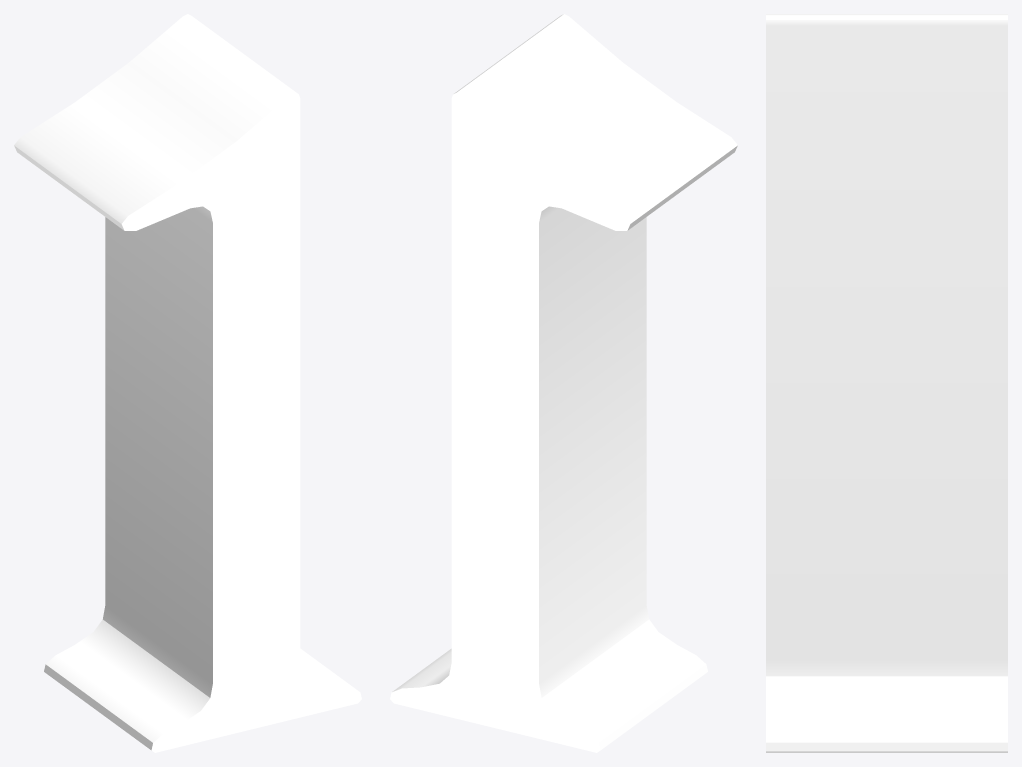
3 renders of one model, left to right at view 1: azimuth 30°, elevation 25°; view 2: azimuth 150°, elevation 25°; view 3: azimuth 270°, elevation 25°, orthographic. The views are drawn at different scales.
Visible parts, largest first — view 1: 1_Soul_White; view 2: 1_Soul_White; view 3: 1_Soul_White.
Boxes of the visible parts, <box> form: 1_Soul_White: <box>14,14,361,752</box>; 1_Soul_White: <box>390,14,737,752</box>; 1_Soul_White: <box>766,14,1007,752</box>.
Size of what is drawn, in the model's own units: 0.058 by 0.1445 by 0.045.
2 materials, 2 textured.
